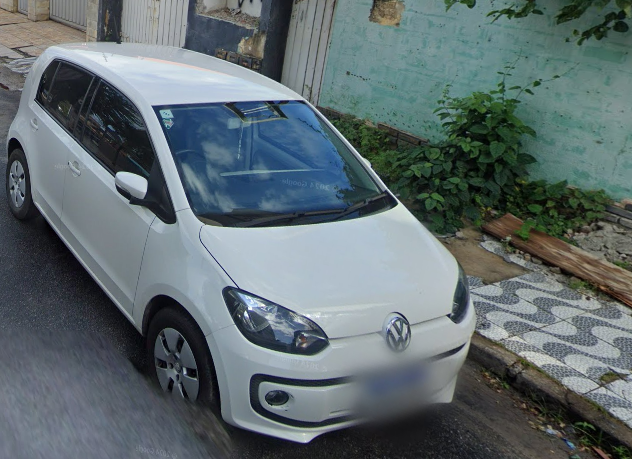car: (8, 42, 478, 432)
